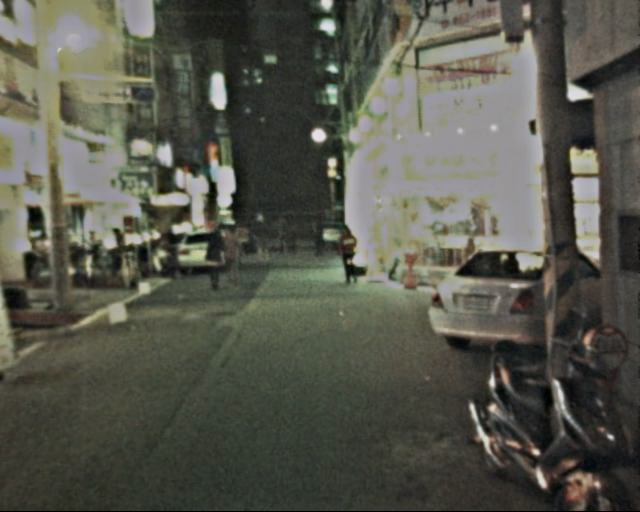person: (215, 223, 249, 292), (274, 217, 324, 257), (332, 223, 362, 286), (199, 225, 228, 290), (249, 211, 273, 262)
